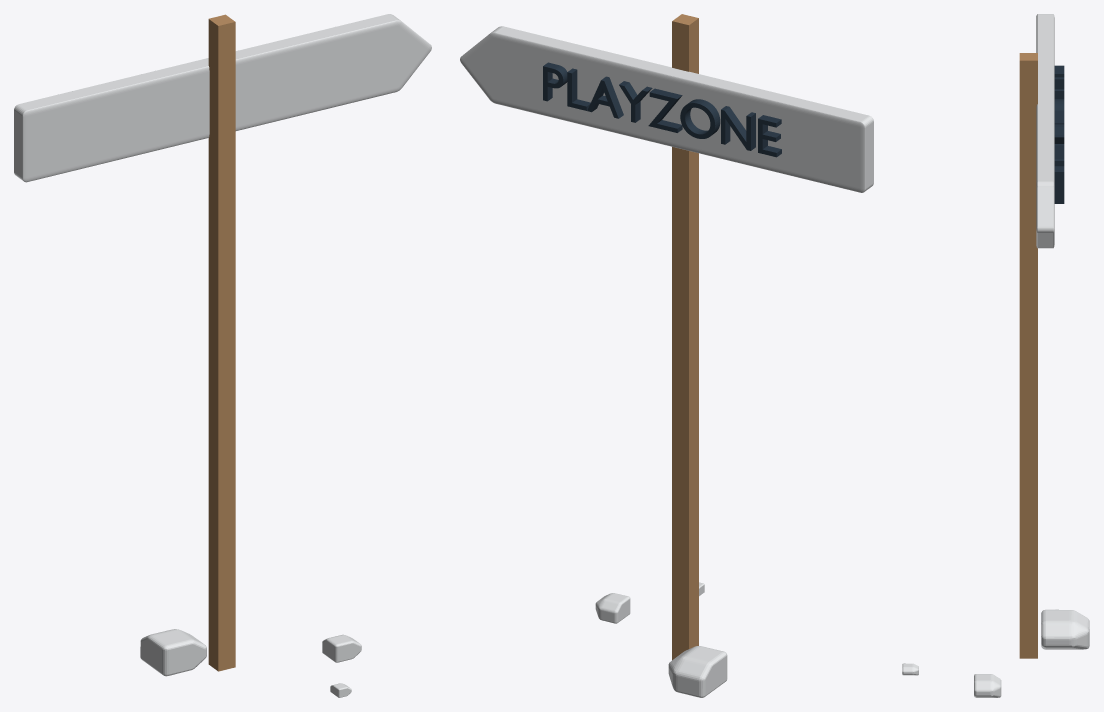
File: signPlayzone.glb
3 views of the same model, side by side, from view 1: azimuth 30°, elevation 25°; view 2: azimuth 150°, elevation 25°; view 3: azimuth 270°, elevation 25° (orthographic). The views are drawn at different scales.
Visible parts, largest first — view 1: Cube.001, Cube, Cube.002, Cube.003; view 2: Cube.001, Cube, Text.001, Cube.002, Cube.003; view 3: Cube, Cube.001, Cube.002, Text.001, Cube.003.
Boxes of the visible parts, left/top/right/bottom form: Cube.001: left=14, top=14, right=431, bottom=182; Cube: left=208, top=14, right=235, bottom=671; Cube.002: left=140, top=629, right=206, bottom=676; Cube.003: left=322, top=634, right=361, bottom=662; Cube.001: left=460, top=26, right=873, bottom=192; Cube: left=672, top=14, right=698, bottom=659; Text.001: left=543, top=62, right=781, bottom=157; Cube.002: left=668, top=646, right=727, bottom=697; Cube.003: left=595, top=593, right=630, bottom=623; Cube: left=1019, top=53, right=1037, bottom=658; Cube.001: left=1036, top=14, right=1054, bottom=248; Cube.002: left=1041, top=609, right=1089, bottom=649; Text.001: left=1054, top=65, right=1064, bottom=203; Cube.003: left=974, top=674, right=1001, bottom=697.
Bounding box in the file's own units: 11.94 × 18.14 × 5.11.
